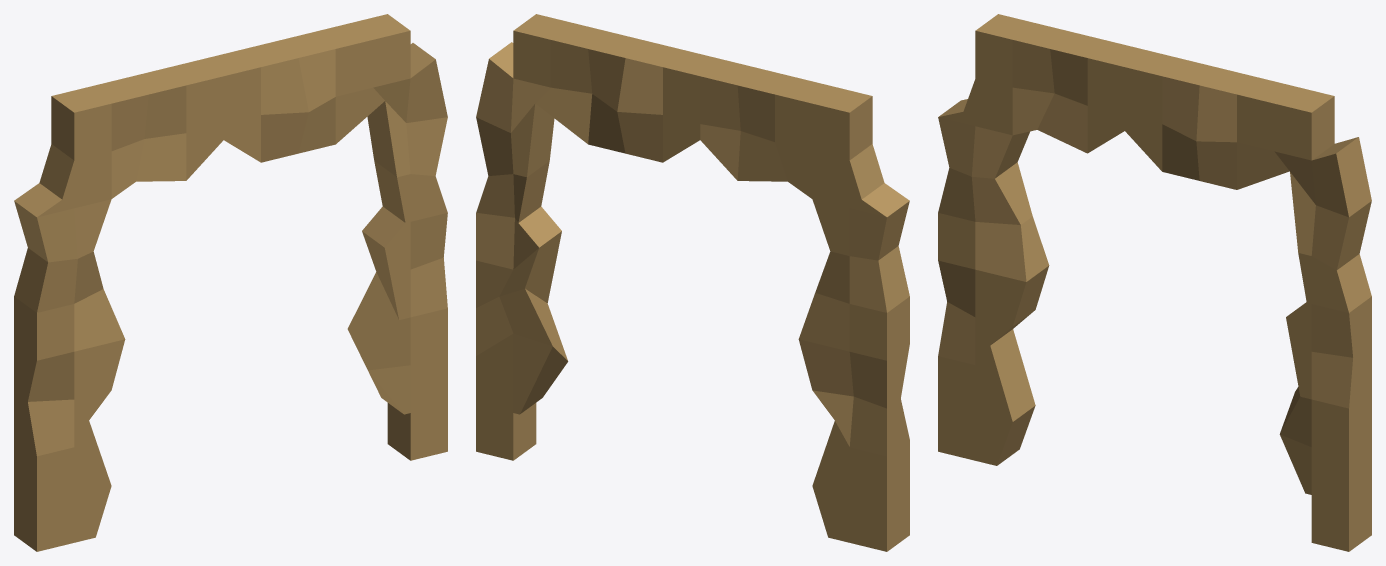
File: Forman.fbx
3 renders of one model, left to right at view 1: azimuth 30°, elevation 25°; view 2: azimuth 150°, elevation 25°; view 3: azimuth 330°, elevation 25°, orthographic.
Visible parts, largest first — view 1: Cube; view 2: Cube; view 3: Cube.
Boxes of the visible parts, x1=… form: Cube: x1=14, y1=14, x2=447, y2=551; Cube: x1=476, y1=14, x2=909, y2=551; Cube: x1=938, y1=14, x2=1371, y2=551.
Bounding box in the file's own units: 200 × 200 × 31.94.
